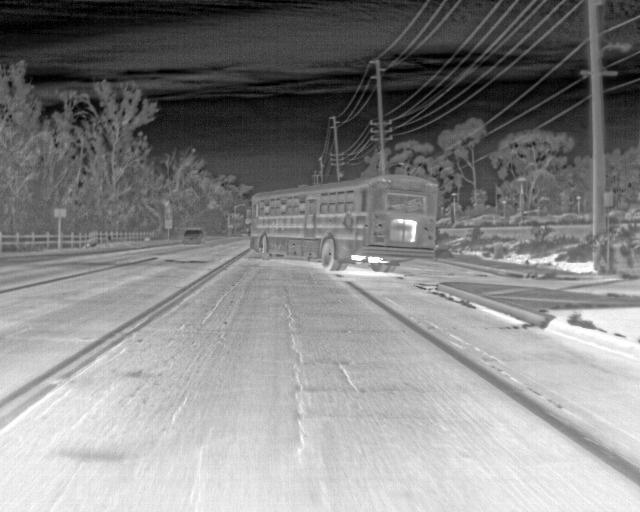car: (182, 227, 205, 245)
